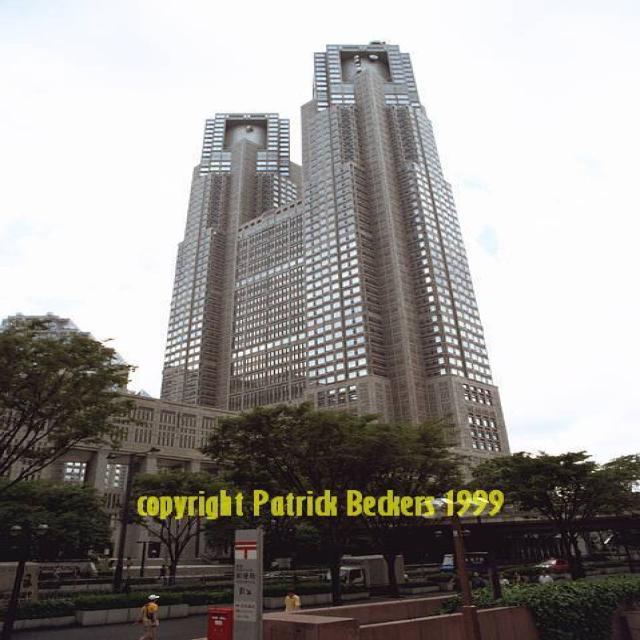building: (0, 40, 520, 558)
